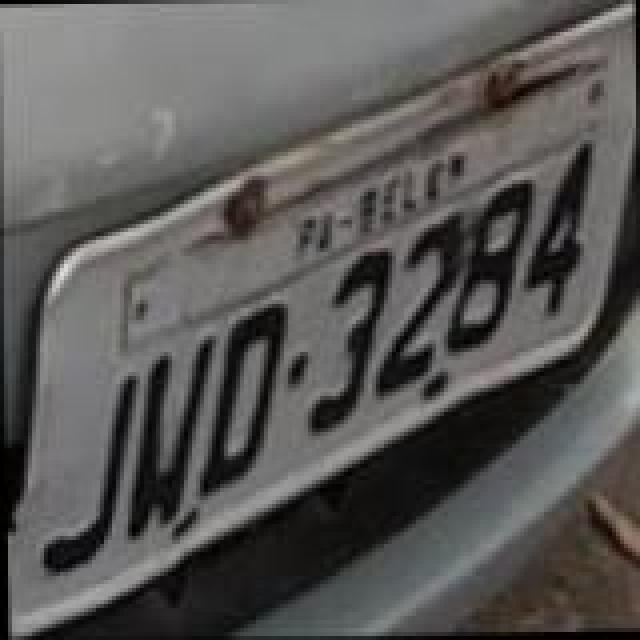2: (374, 224, 462, 400)
3: (302, 248, 398, 436)
4: (520, 138, 600, 318)
8: (440, 180, 540, 356)
D: (194, 304, 294, 504)
J: (34, 374, 142, 578)
W: (122, 338, 222, 546)
